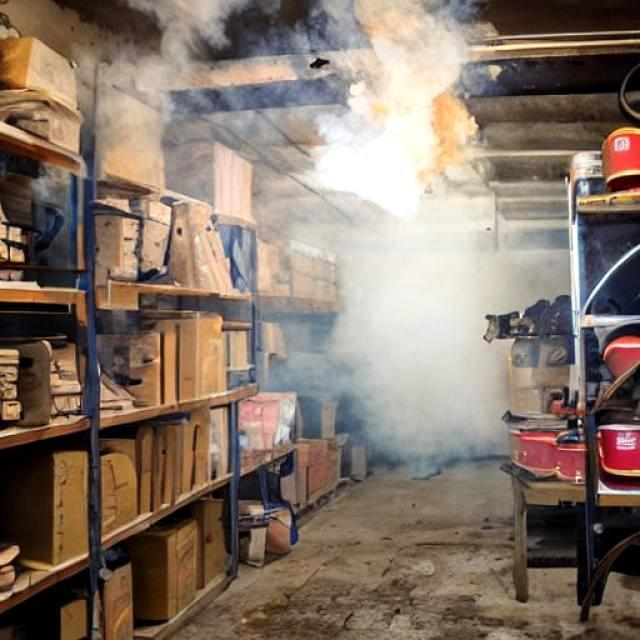Smoke: (146, 0, 544, 458)
